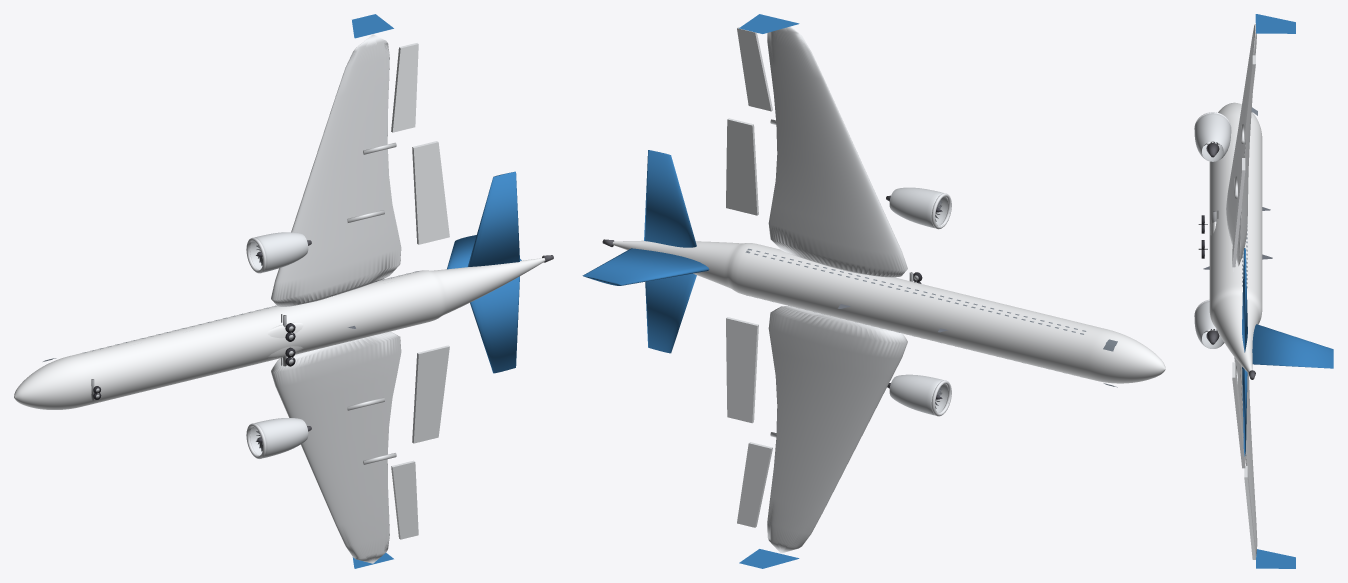
3 renders of one model, left to right at view 1: azimuth 30°, elevation 25°; view 2: azimuth 150°, elevation 25°; view 3: azimuth 270°, elevation 25°, orthographic.
Visible parts, largest first — view 1: Fuselage, Wing_R, Wing_L, HStab_R, HStab_L, Flap_R, Flap_L, Aileron_R, Aileron_L, Nacelle_1_0, Nacelle_-1_0; view 2: Fuselage, Wing_L, Wing_R, HStab_R, Flap_L, Fin, HStab_L, Flap_R, Aileron_L, Aileron_R, Nacelle_1_0, Nacelle_-1_0; view 3: Fuselage, Fin, Wing_R, Nacelle_1_0, Wing_L, Nacelle_-1_0, Sharklet_R, Sharklet_L, Flap_R, Flap_L, HStab_R, Aileron_L (+2 smaller).
Boxes of the visible parts, x1,y1,x2,y2 form: Fuselage: (14,258,545,409); Wing_R: (271,34,401,306); Wing_L: (271,331,401,563); HStab_R: (467,171,519,266); HStab_L: (470,276,519,373); Flap_R: (412,141,449,244); Flap_L: (412,345,449,443); Aileron_R: (391,43,418,132); Aileron_L: (391,460,418,539); Nacelle_1_0: (250,232,308,272); Nacelle_-1_0: (250,418,308,458); Fuselage: (612,240,1165,383); Wing_L: (767,306,907,553); Wing_R: (767,26,907,277); HStab_R: (644,150,696,247); Flap_L: (726,317,758,423); Fin: (582,248,709,285); HStab_L: (645,273,696,353); Flap_R: (726,118,758,215); Aileron_L: (737,442,772,527); Aileron_R: (737,27,772,111); Nacelle_1_0: (889,187,948,228); Nacelle_-1_0: (889,374,948,415); Fuselage: (1209,102,1262,372); Fin: (1252,324,1333,368); Wing_R: (1226,24,1256,266); Nacelle_1_0: (1194,113,1231,161); Wing_L: (1234,357,1257,556); Nacelle_-1_0: (1194,301,1224,348); Sharklet_R: (1255,14,1295,33); Sharklet_L: (1256,549,1295,568); Flap_R: (1232,158,1245,267); Flap_L: (1232,362,1245,468); HStab_R: (1242,248,1247,352); Aileron_L: (1244,466,1255,559).
Bounding box in the file's own units: 36.46 × 33.72 × 7.95.
